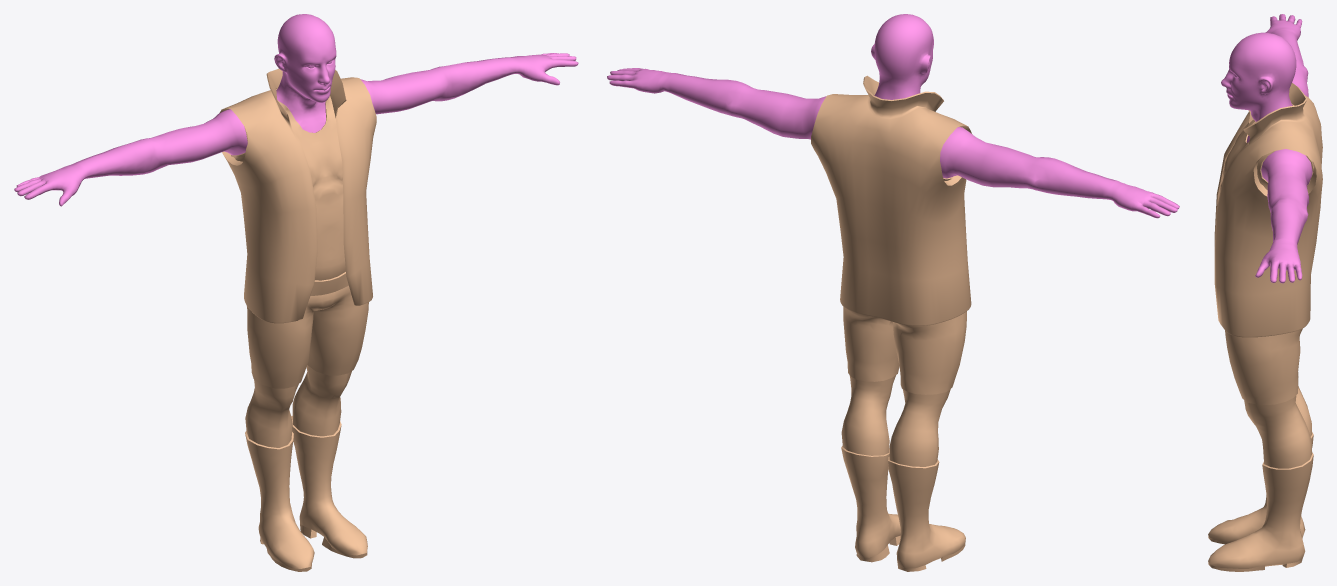
The model's file is MaleAvatar.FBX.
3 views of the same model, side by side, from view 1: azimuth 30°, elevation 25°; view 2: azimuth 150°, elevation 25°; view 3: azimuth 270°, elevation 25° (orthographic). The views are drawn at different scales.
Parts seen in each view (by area): view 1: Clothes, Body, Head; view 2: Clothes, Body, Head; view 3: Clothes, Body, Head.
Part boxes in pixels (x1,y1,x2,y2): Clothes: (219,68,376,571); Body: (14,53,578,206); Head: (274,14,336,132); Clothes: (811,75,971,571); Body: (607,68,1179,218); Head: (871,14,933,99); Clothes: (1208,83,1322,571); Body: (1255,14,1312,283); Head: (1221,32,1296,142).
Bounding box in the file's own units: 201 × 181 × 36.4.
